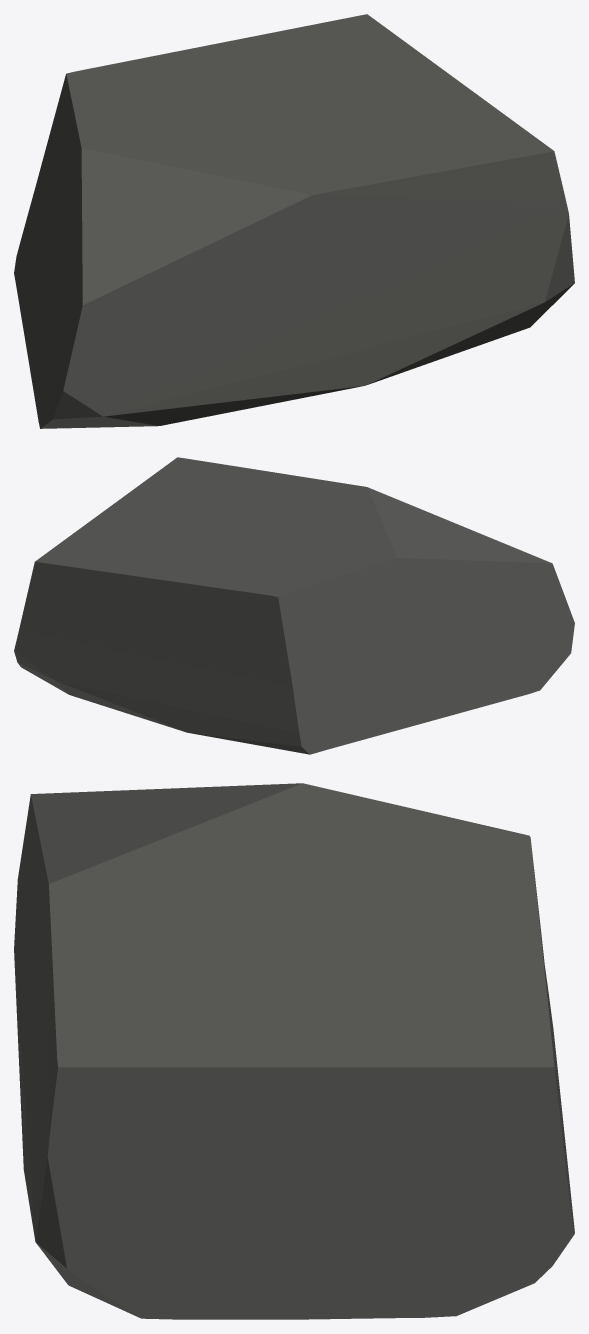
The model's file is SM_Envr_Nature_Rock_02.fbx.
3 renders of one model, top to bottom at view 1: azimuth 30°, elevation 25°; view 2: azimuth 150°, elevation 25°; view 3: azimuth 270°, elevation 25°, orthographic. The views are drawn at different scales.
Visible parts, largest first — view 1: SM_Envr_Nature_Rock_02; view 2: SM_Envr_Nature_Rock_02; view 3: SM_Envr_Nature_Rock_02.
Part boxes in pixels (x1,y1,x2,y2): SM_Envr_Nature_Rock_02: [14, 14, 574, 428]; SM_Envr_Nature_Rock_02: [14, 457, 574, 754]; SM_Envr_Nature_Rock_02: [14, 783, 574, 1319].
Size of the model in its own units: 251 by 90.85 by 170.
